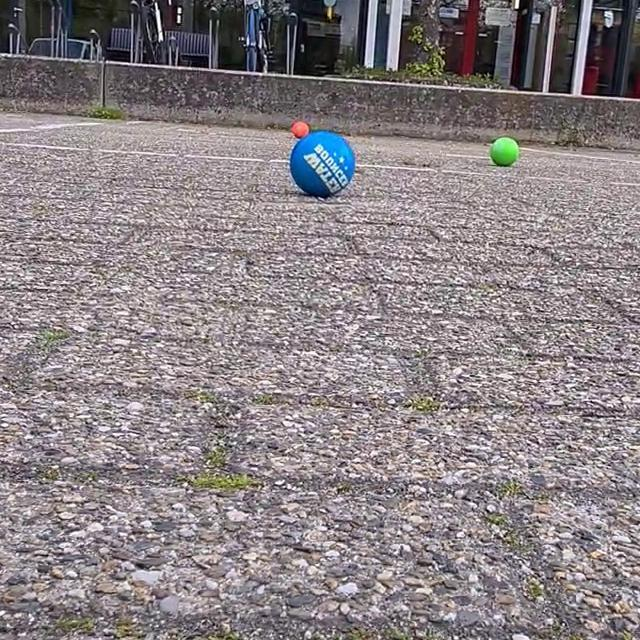ball: (489, 133, 522, 168), (289, 119, 312, 141)
